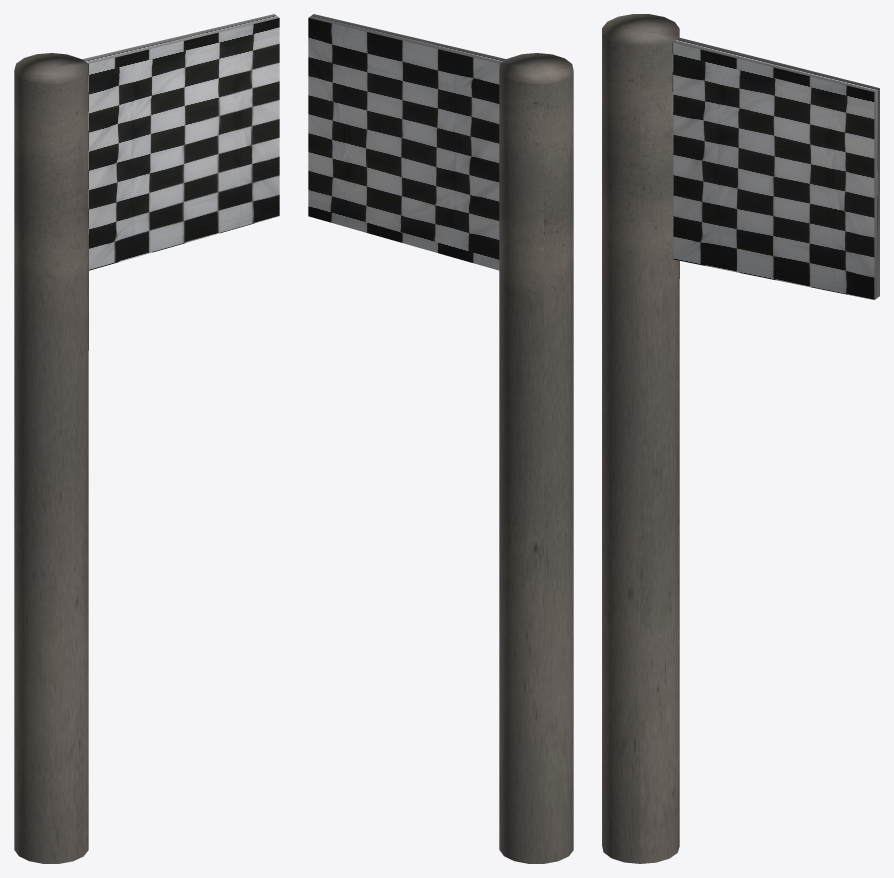
Rendered from Zielflagge.fbx.
3 renders of one model, left to right at view 1: azimuth 30°, elevation 25°; view 2: azimuth 150°, elevation 25°; view 3: azimuth 330°, elevation 25°, orthographic. The views are drawn at different scales.
Visible parts, largest first — view 1: polySurface2; view 2: polySurface2; view 3: polySurface2.
Boxes of the visible parts, bbox=[...] form: polySurface2: bbox=[14, 14, 279, 863]; polySurface2: bbox=[308, 14, 573, 863]; polySurface2: bbox=[602, 14, 879, 863].
Bounding box in the file's own units: 40.74 × 118 × 10.15.
Materials: 4 (3 with a texture image).
